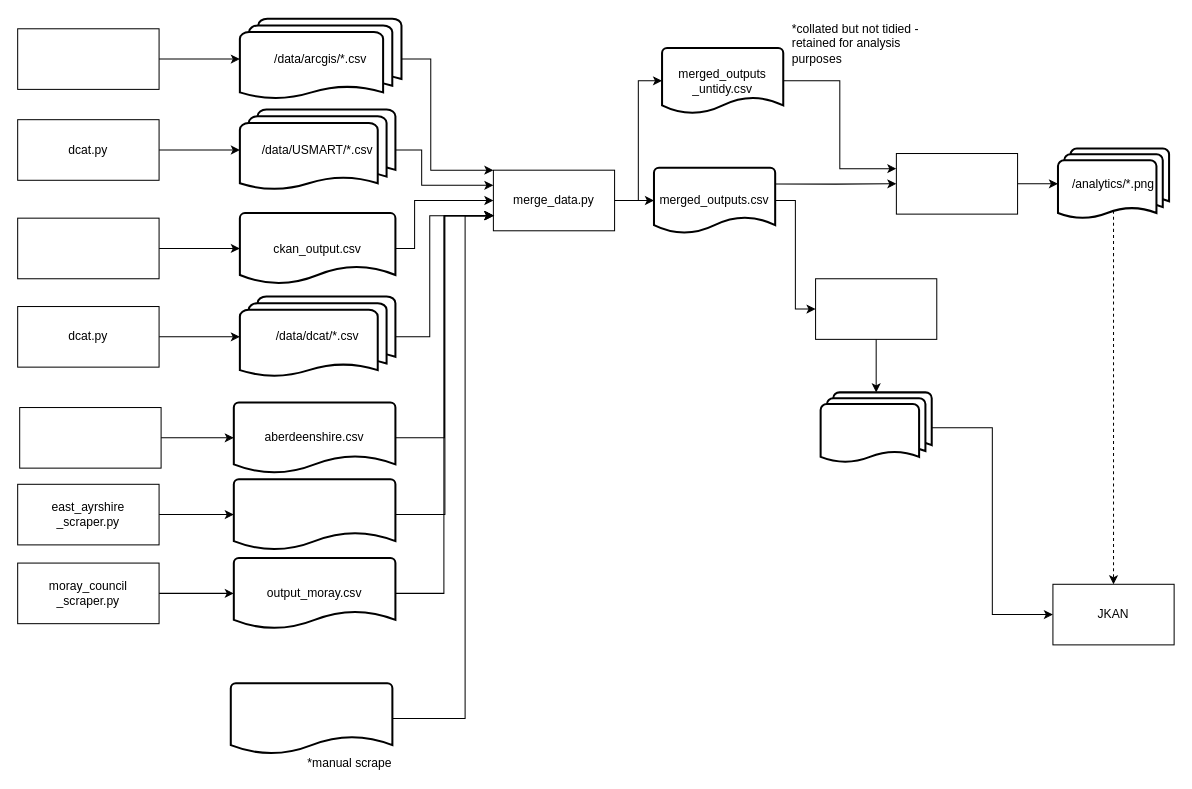
The diagram is 1192 pixels wide and 789 high, and some of its shapes have lost their labels. The centre of each missing label's shape, as x and y in pixels:
"/_datasets/*.md" goes at (x=875, y=427).
"/CKANOpenDataImport/" goes at (x=88, y=248).
"aberdeenshire_council _scraper.py" goes at (x=90, y=437).
"analytics.ipynb" goes at (x=956, y=183).
"arcgis.py" goes at (x=88, y=58).
"export2jkan.py" goes at (x=876, y=308).
"output_east_ayrshire.csv" goes at (x=314, y=514).
"scotgov-datasets.csv" goes at (x=311, y=718).
